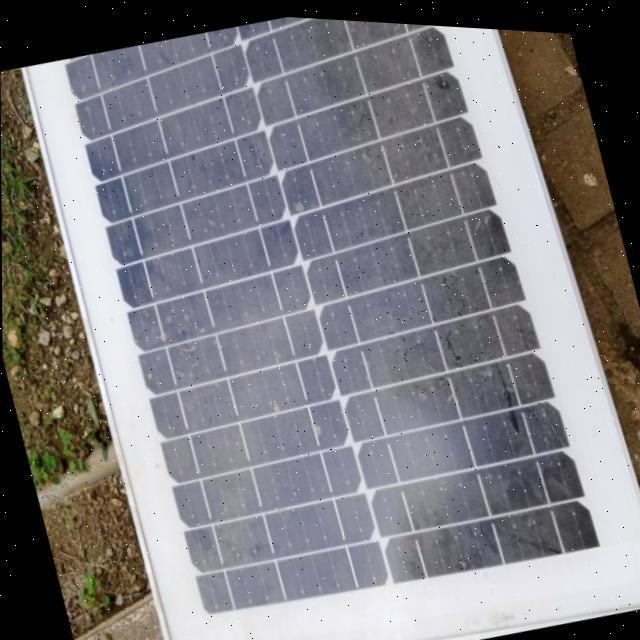Anomaly Solar Panel: (44, 2, 620, 640)
Surface Contaminant: (45, 15, 620, 640)
